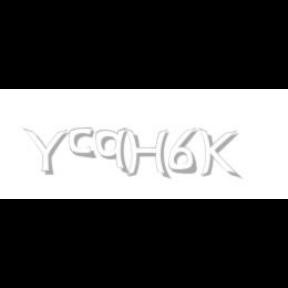6: (168, 128, 198, 176)
H: (124, 128, 170, 180)
K: (198, 128, 238, 180)
Y: (22, 128, 68, 176)
c: (68, 128, 97, 160)
q: (95, 128, 131, 176)
